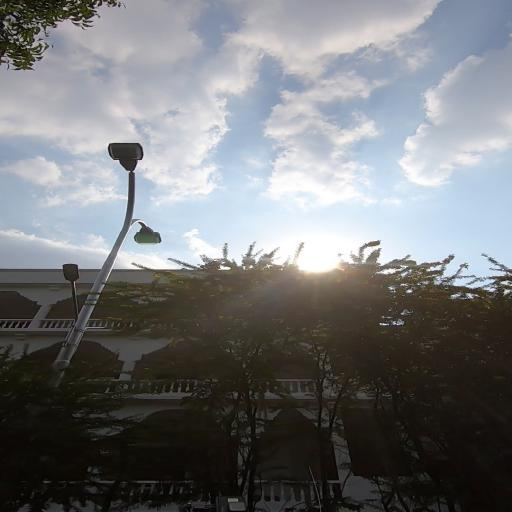Street_light: (103, 138, 153, 190), (58, 260, 96, 314), (134, 216, 163, 249)
